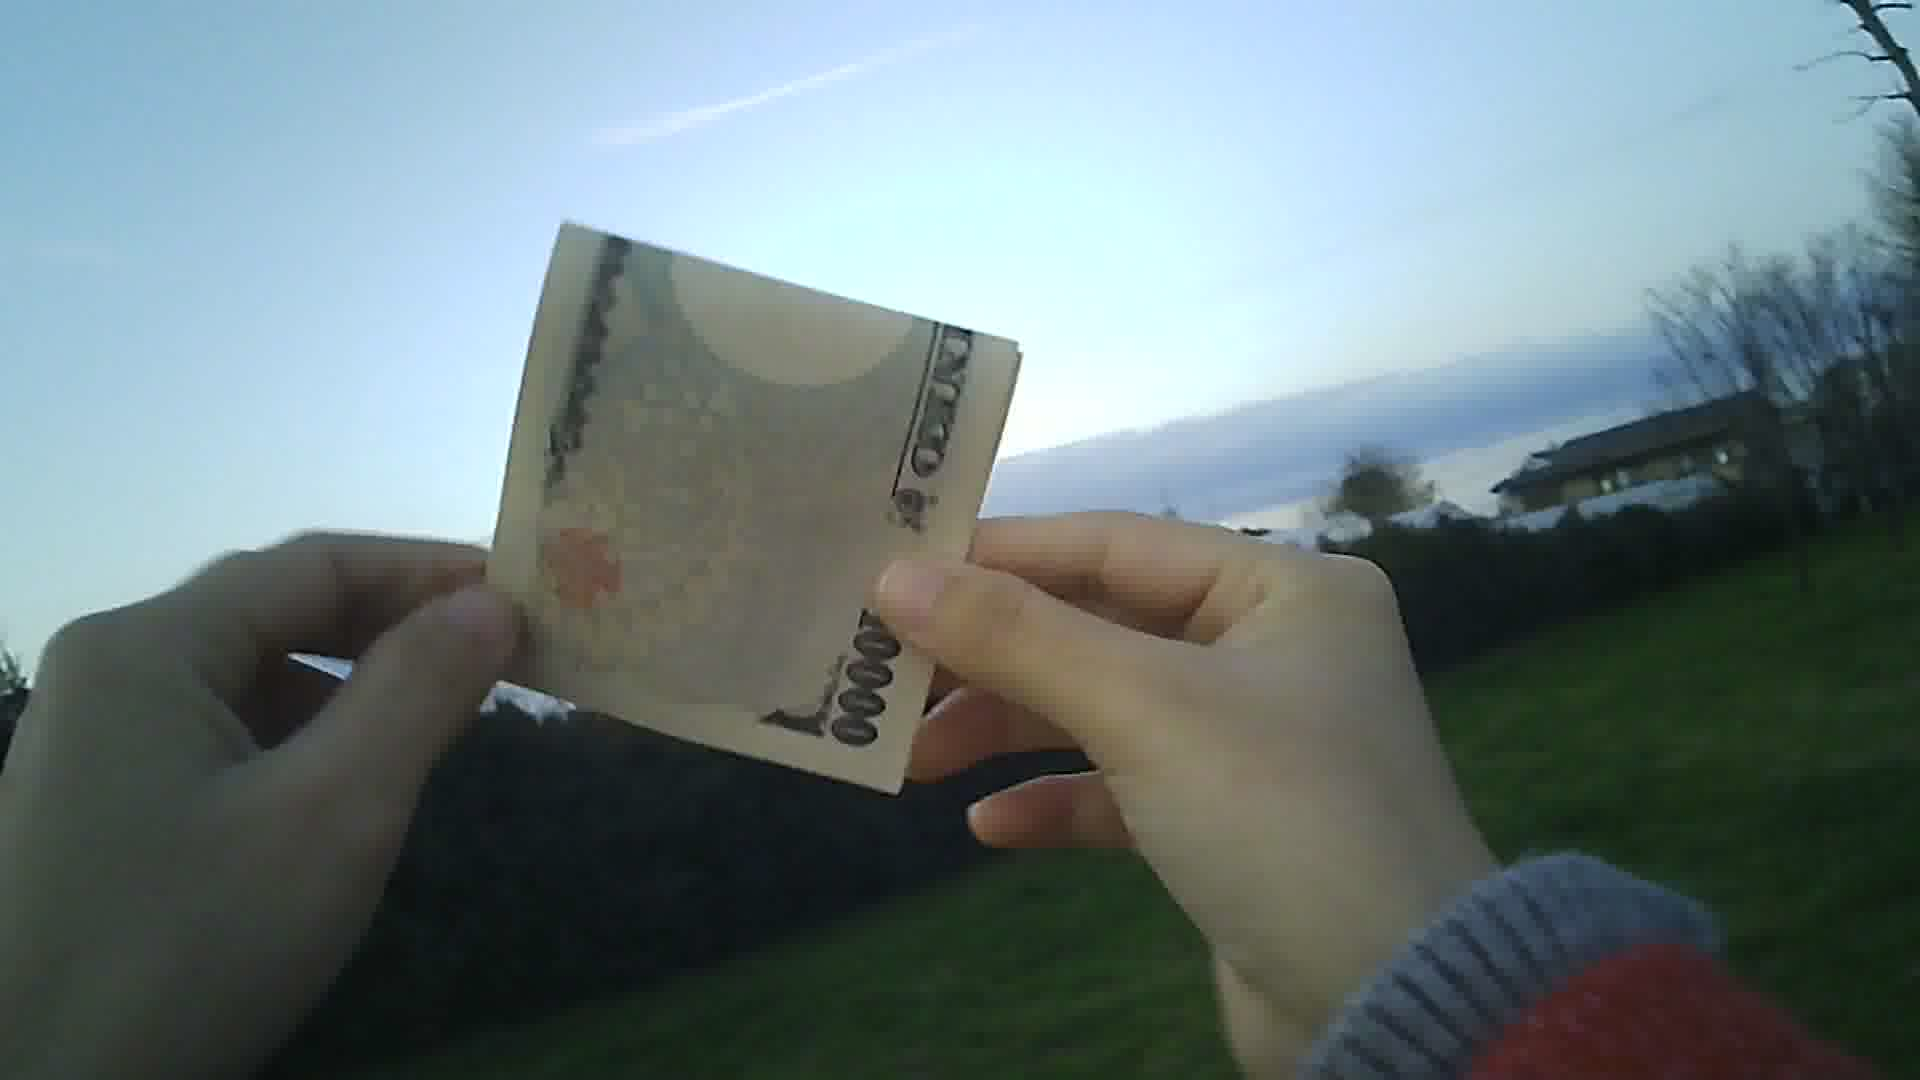10,000 Yen: (498, 223, 971, 785)
